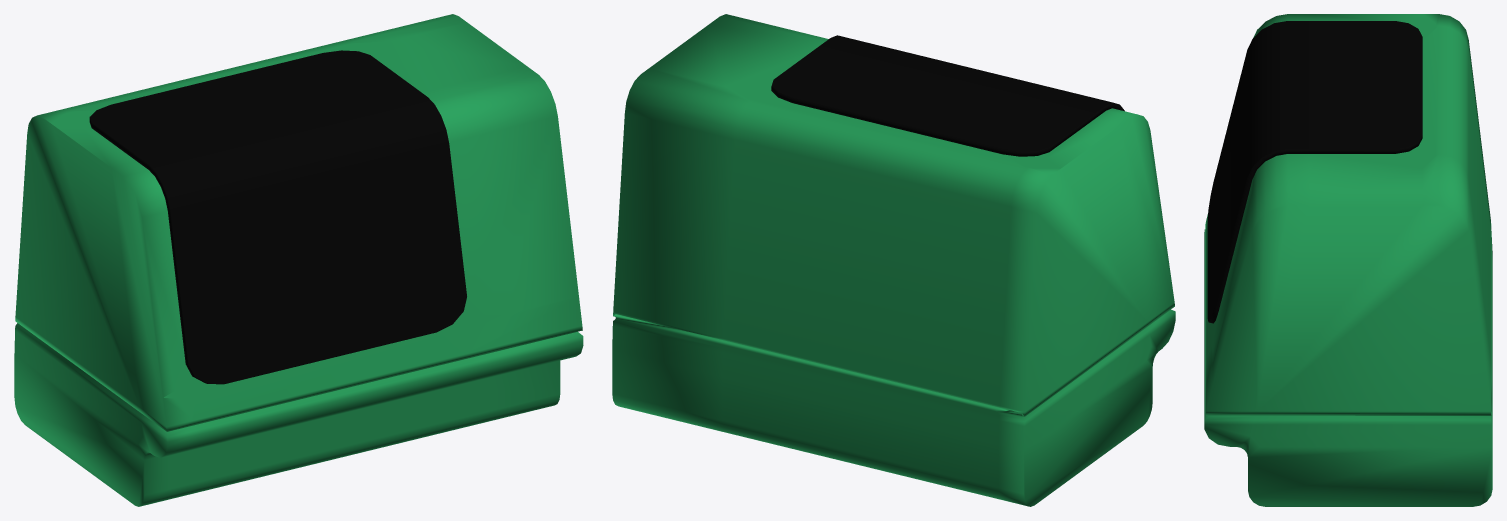
The model's file is green_console_2.glb.
The picture shows the model from 3 angles, left to right: view 1: azimuth 30°, elevation 25°; view 2: azimuth 150°, elevation 25°; view 3: azimuth 270°, elevation 25°; orthographic projection. The views are drawn at different scales.
Parts seen in each view (by area): view 1: Cube, screen, Cube.001; view 2: Cube, screen, Cube.001; view 3: Cube, screen, Cube.001.
Part boxes in pixels (x1=…): Cube: x1=14, y1=14, x2=583, y2=506; screen: x1=90, y1=50, x2=466, y2=383; Cube.001: x1=89, y1=117, x2=436, y2=384; Cube: x1=612, y1=14, x2=1175, y2=506; screen: x1=771, y1=35, x2=1124, y2=151; Cube.001: x1=771, y1=86, x2=1123, y2=156; Cube: x1=1204, y1=14, x2=1492, y2=506; screen: x1=1207, y1=21, x2=1422, y2=321; Cube.001: x1=1208, y1=29, x2=1422, y2=323.
Bounding box in the file's own units: 2.71 × 2.03 × 1.73.
